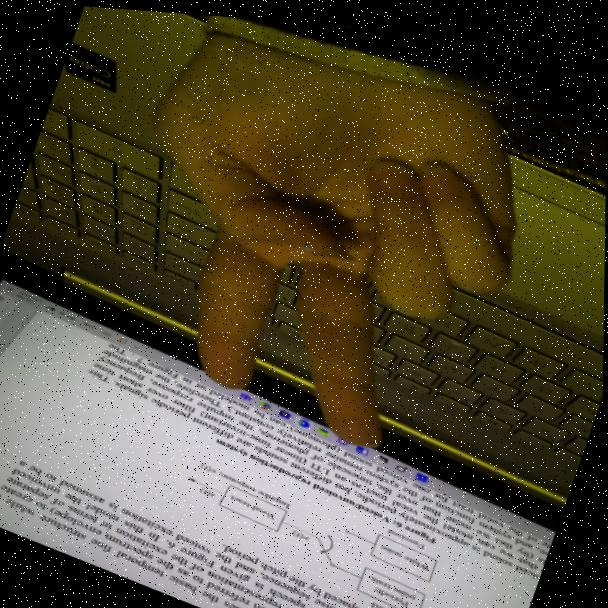two: (72, 4, 559, 479)
